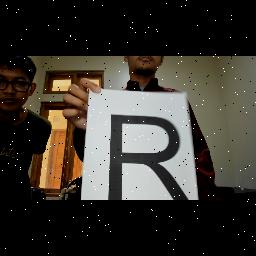r: (102, 104, 192, 200)
